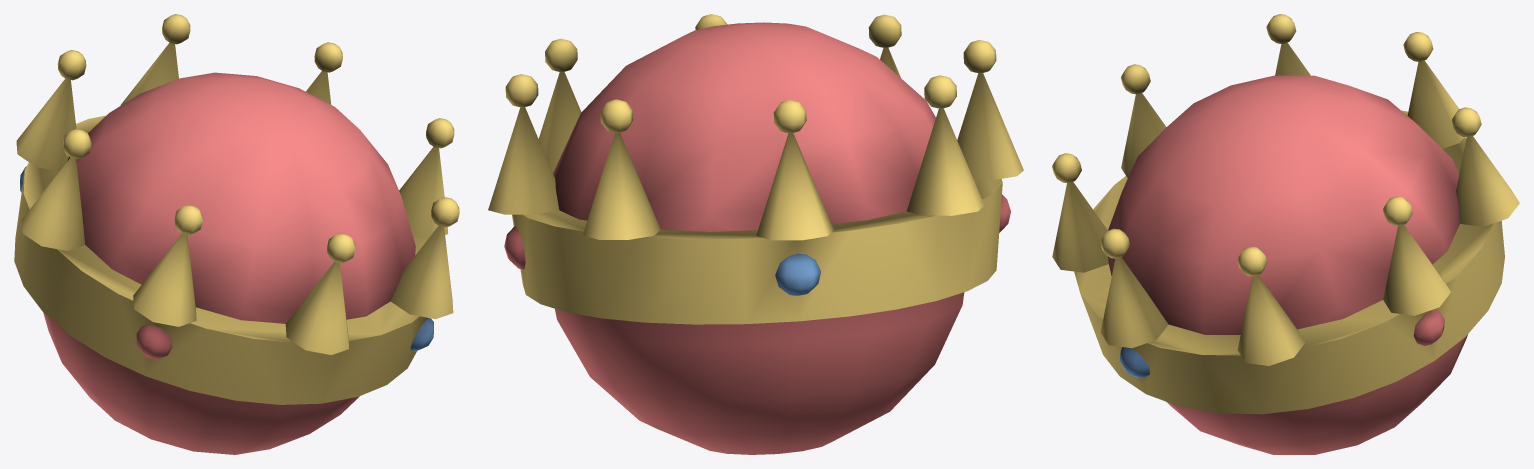
The model's file is king_head.fbx.
3 renders of one model, left to right at view 1: azimuth 30°, elevation 25°; view 2: azimuth 150°, elevation 25°; view 3: azimuth 270°, elevation 25°, orthographic. The views are drawn at different scales.
Visible parts, largest first — view 1: king_head; view 2: king_head; view 3: king_head.
Boxes of the visible parts, x1=… form: king_head: x1=14, y1=14, x2=459, y2=454; king_head: x1=488, y1=14, x2=1023, y2=454; king_head: x1=1052, y1=14, x2=1519, y2=454.
Size of the model in its own units: 1.01 by 0.8574 by 1.01.
